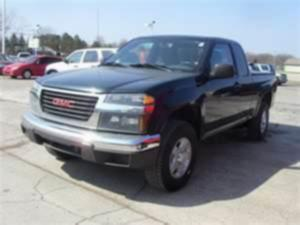GMC: (49, 95, 76, 112)
